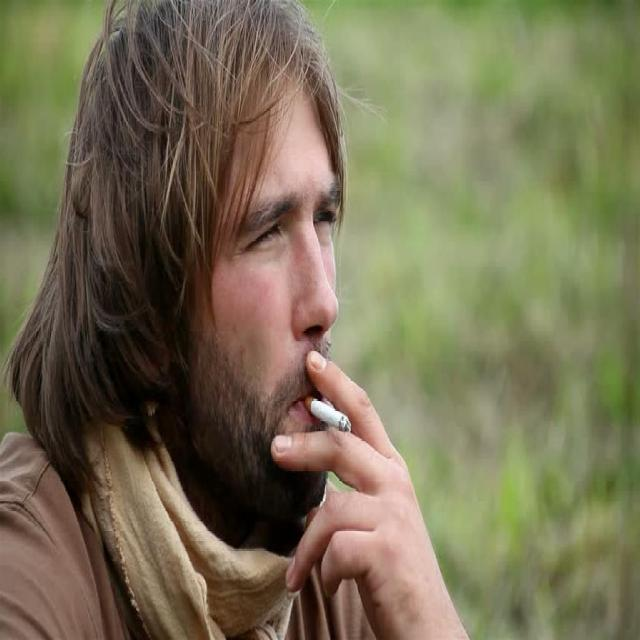smoking: (82, 2, 458, 631)
